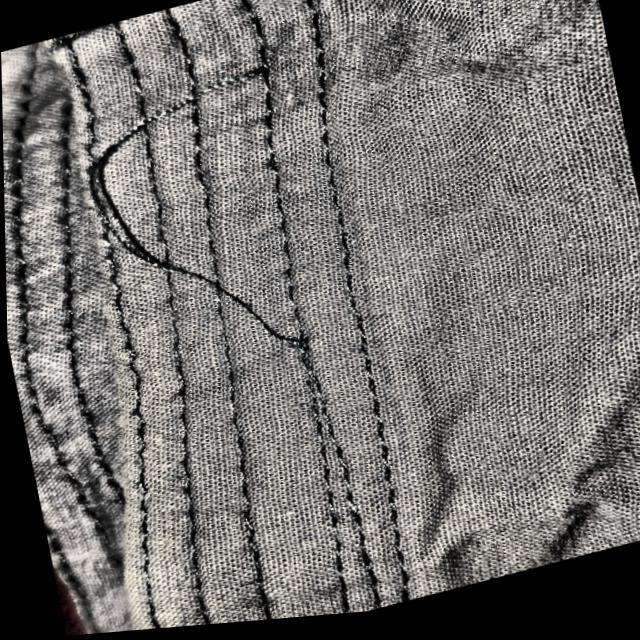Stitch: (38, 10, 358, 431)
